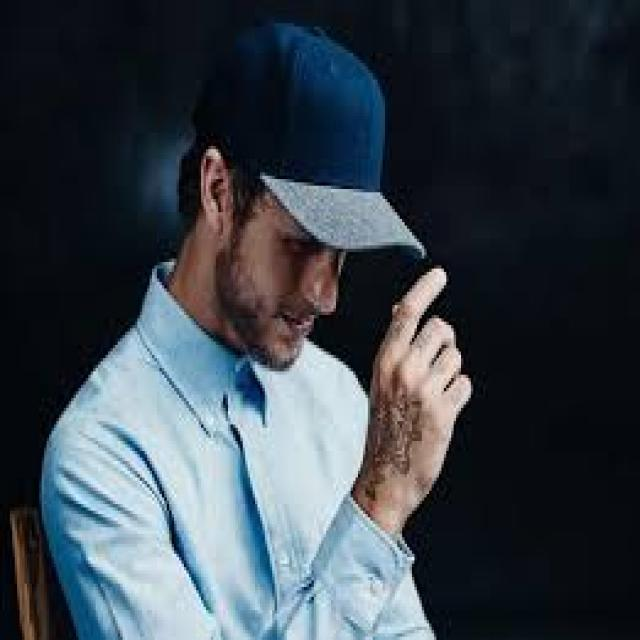3_gorra: (204, 15, 430, 254)
